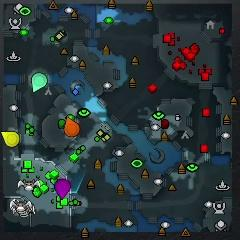p2: (31, 73, 47, 92)
p3: (54, 178, 70, 198)
p4: (1, 131, 20, 147)
p5: (63, 118, 80, 136)
